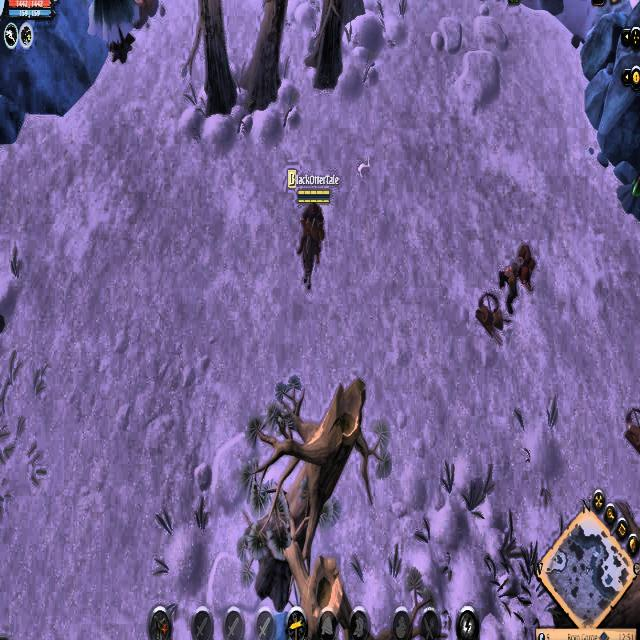copperore: (128, 0, 161, 28)
